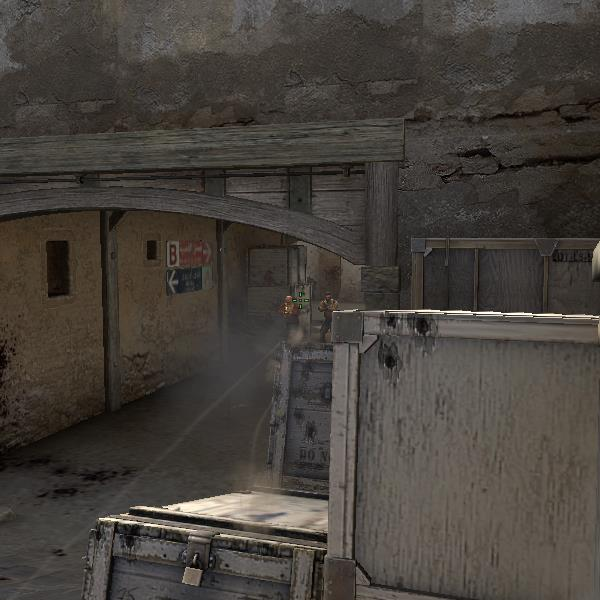t_body: (269, 293, 309, 343)
t_head: (281, 293, 295, 307)
